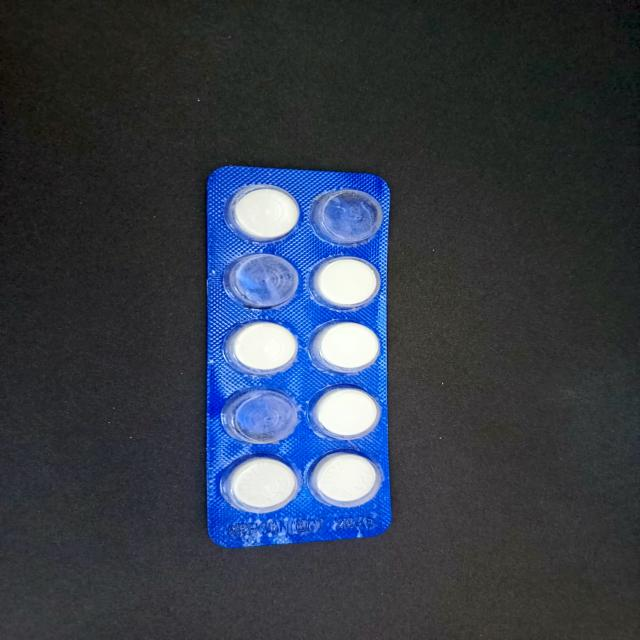defect: (221, 250, 304, 312), (219, 385, 302, 447), (307, 186, 387, 248)
